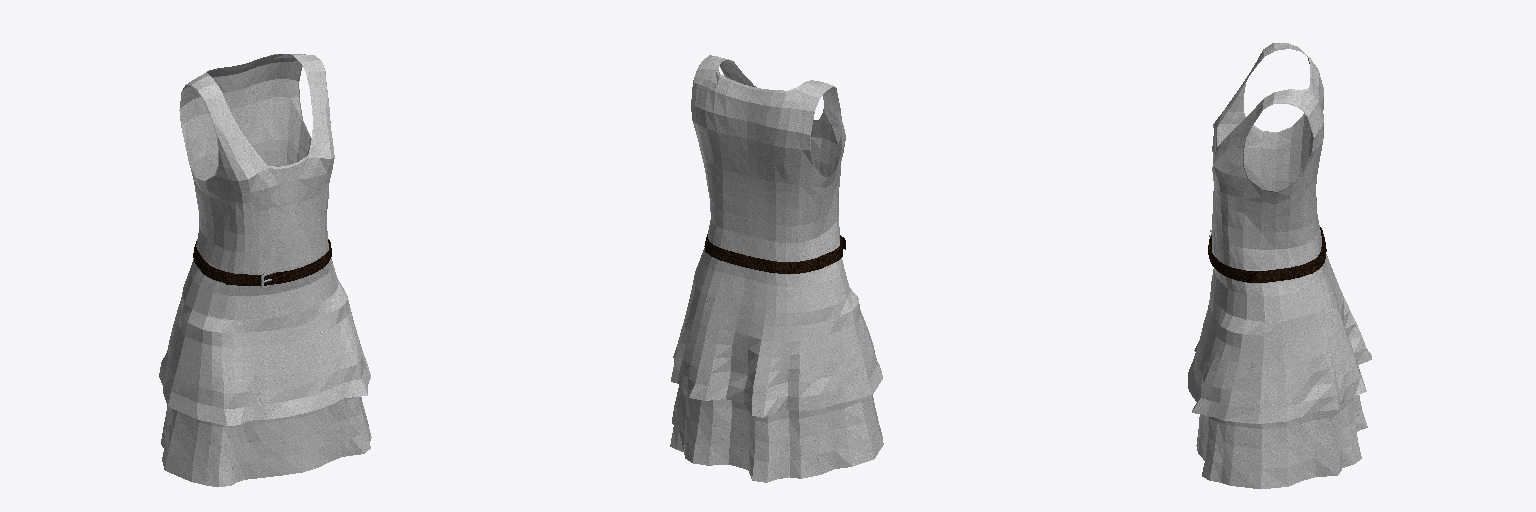
3 views of the same model, side by side, from view 1: azimuth 30°, elevation 25°; view 2: azimuth 150°, elevation 25°; view 3: azimuth 270°, elevation 25° (orthographic).
Visible parts, largest first — view 1: dress_BubblyDress; view 2: dress_BubblyDress; view 3: dress_BubblyDress.
Part boxes in pixels (bbox=[...]): dress_BubblyDress: bbox=[159, 54, 371, 486]; dress_BubblyDress: bbox=[670, 55, 883, 482]; dress_BubblyDress: bbox=[1188, 43, 1371, 488].
Bounding box in the file's own units: 4.66 × 8.42 × 3.76.
2 materials, 1 textured.